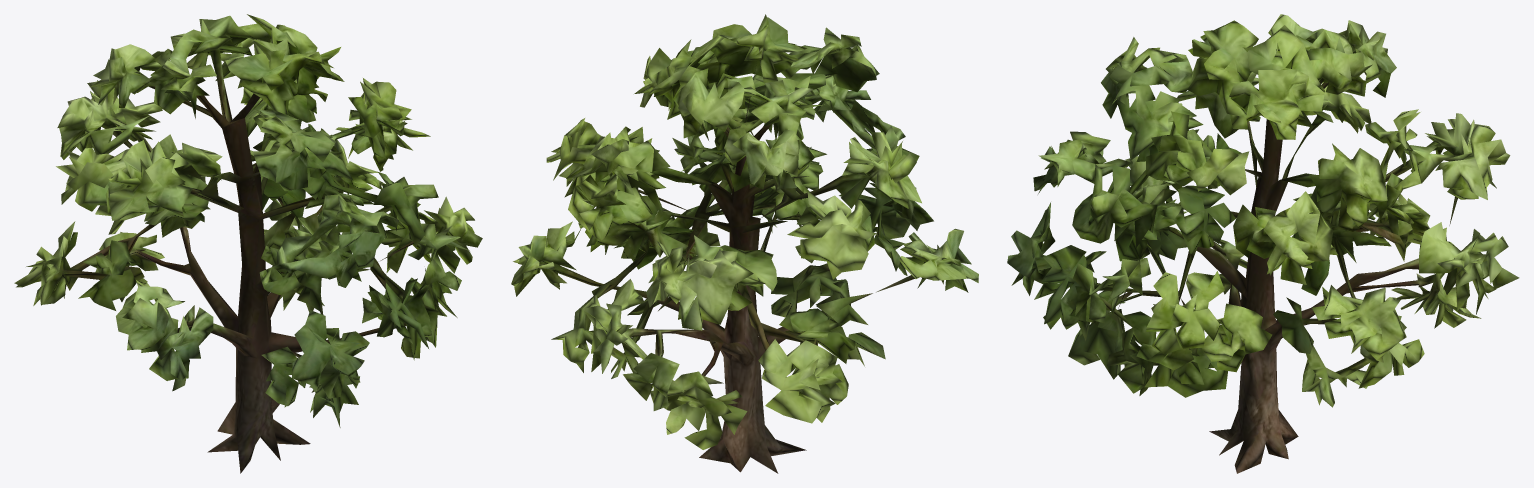
File: ul_oak.glb
3 views of the same model, side by side, from view 1: azimuth 30°, elevation 25°; view 2: azimuth 150°, elevation 25°; view 3: azimuth 270°, elevation 25° (orthographic).
Parts seen in each view (by area): view 1: tripo_node_42d19f28-18e5-4435-a83e-fa8ba89ddaab; view 2: tripo_node_42d19f28-18e5-4435-a83e-fa8ba89ddaab; view 3: tripo_node_42d19f28-18e5-4435-a83e-fa8ba89ddaab.
Part boxes in pixels (bbox=[...]): tripo_node_42d19f28-18e5-4435-a83e-fa8ba89ddaab: bbox=[14, 14, 482, 473]; tripo_node_42d19f28-18e5-4435-a83e-fa8ba89ddaab: bbox=[511, 14, 978, 473]; tripo_node_42d19f28-18e5-4435-a83e-fa8ba89ddaab: bbox=[1007, 14, 1519, 473].
Bounding box in the file's own units: 0.8276 × 0.9276 × 1.
Materials: 1 (1 with a texture image).
